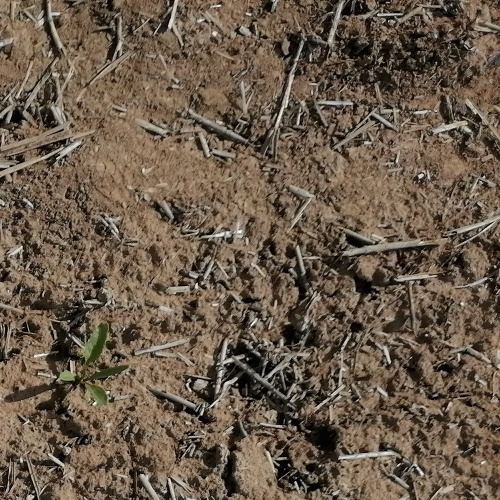beet: (58, 324, 128, 405)
